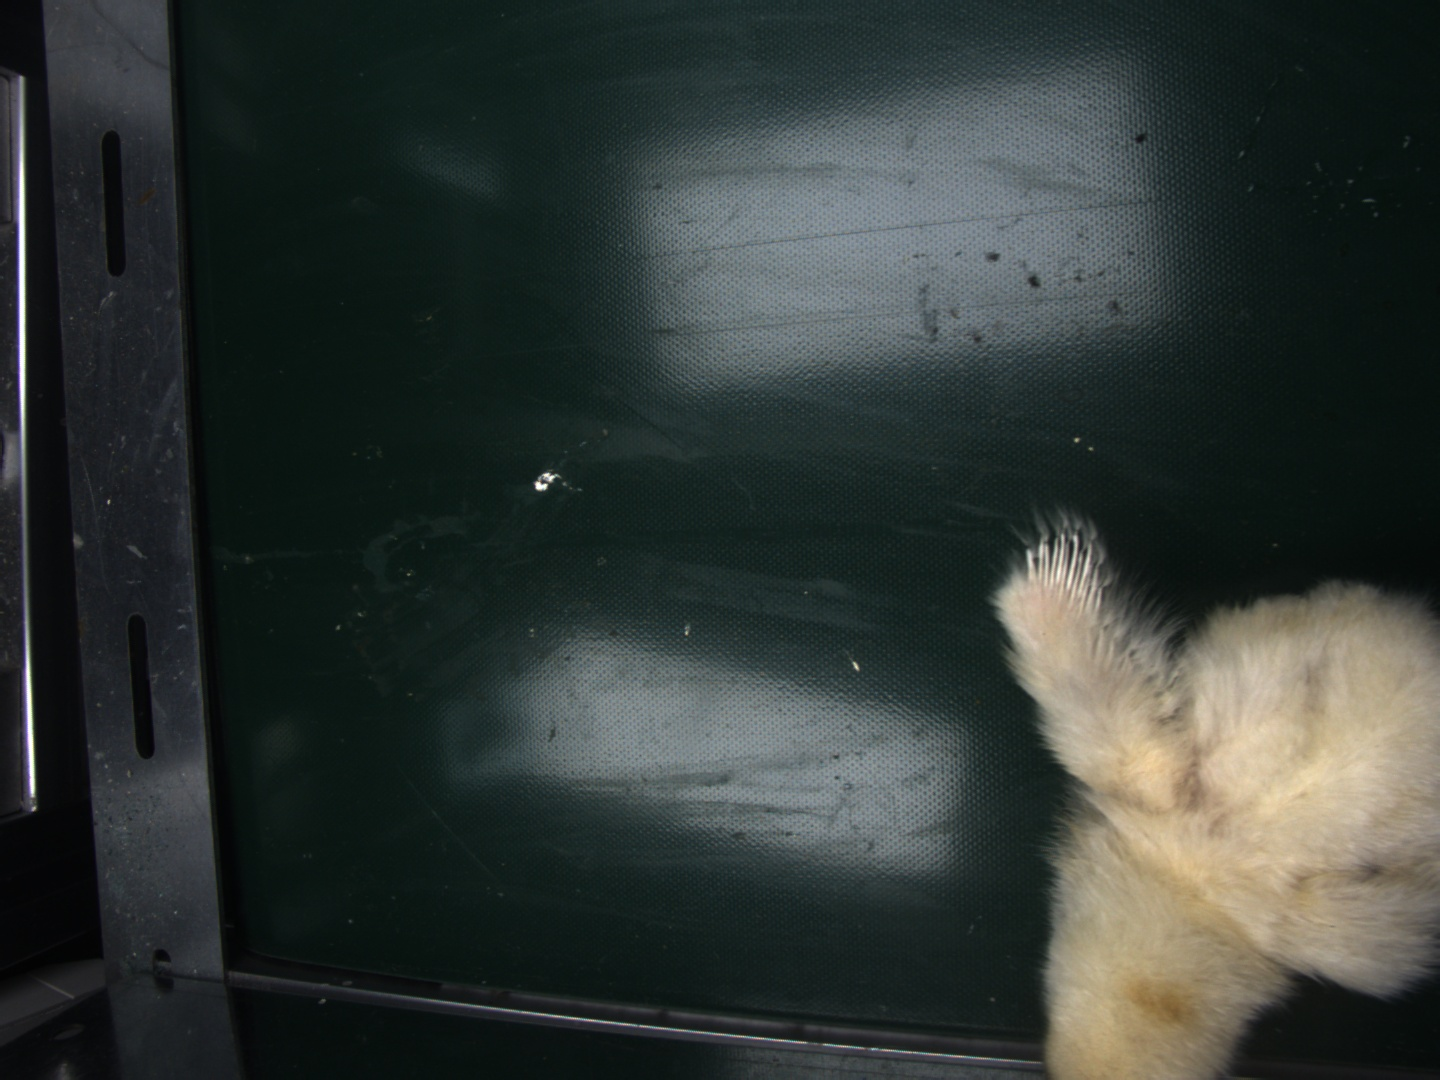male: (1030, 529, 1108, 604)
